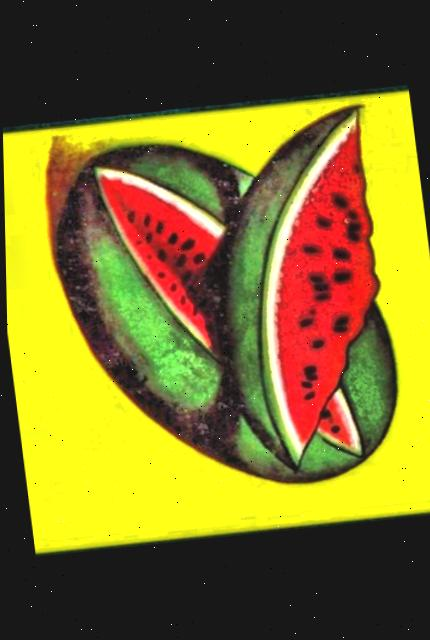La Sandia: (2, 90, 430, 550)
